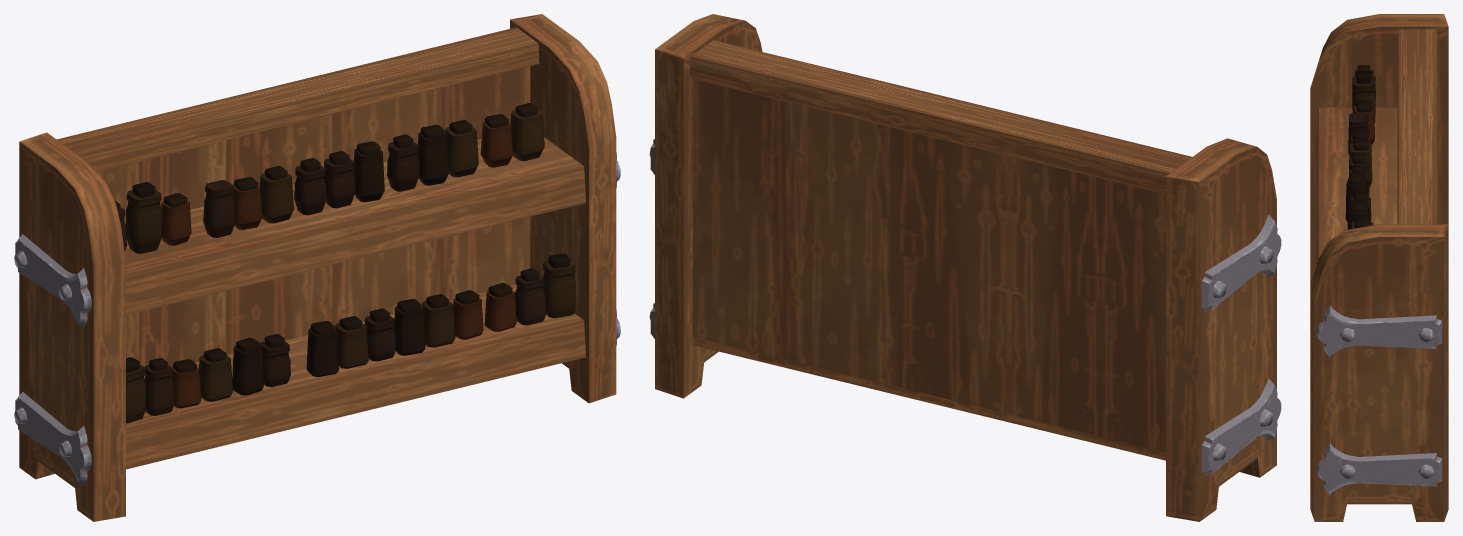
Rendered from shelf_small_bottles.glb.
3 views of the same model, side by side, from view 1: azimuth 30°, elevation 25°; view 2: azimuth 150°, elevation 25°; view 3: azimuth 270°, elevation 25° (orthographic). The views are drawn at different scales.
Parts seen in each view (by area): view 1: Shelf_Small_Bottles; view 2: Shelf_Small_Bottles; view 3: Shelf_Small_Bottles.
Part boxes in pixels (x1,y1,x2,y2): Shelf_Small_Bottles: (14, 14, 620, 521); Shelf_Small_Bottles: (649, 14, 1281, 521); Shelf_Small_Bottles: (1310, 14, 1448, 521).
Bounding box in the file's own units: 1.14 × 0.6474 × 0.2846.
Materials: 3 (3 with a texture image).
